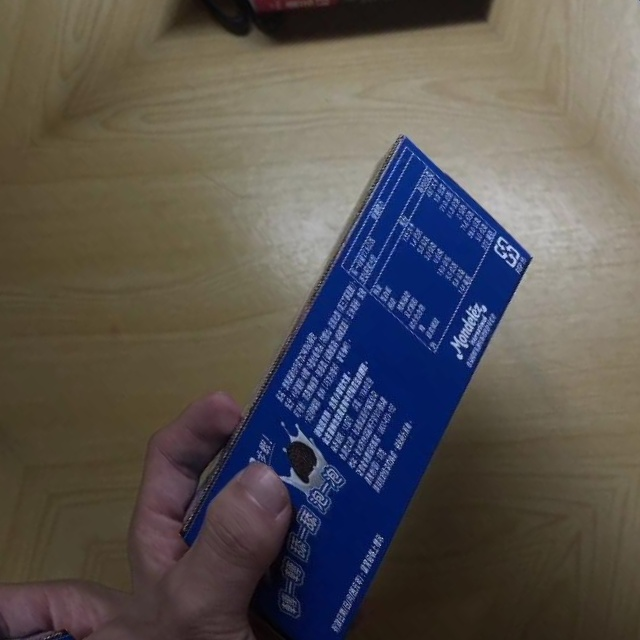Oreo: (72, 118, 640, 640)
